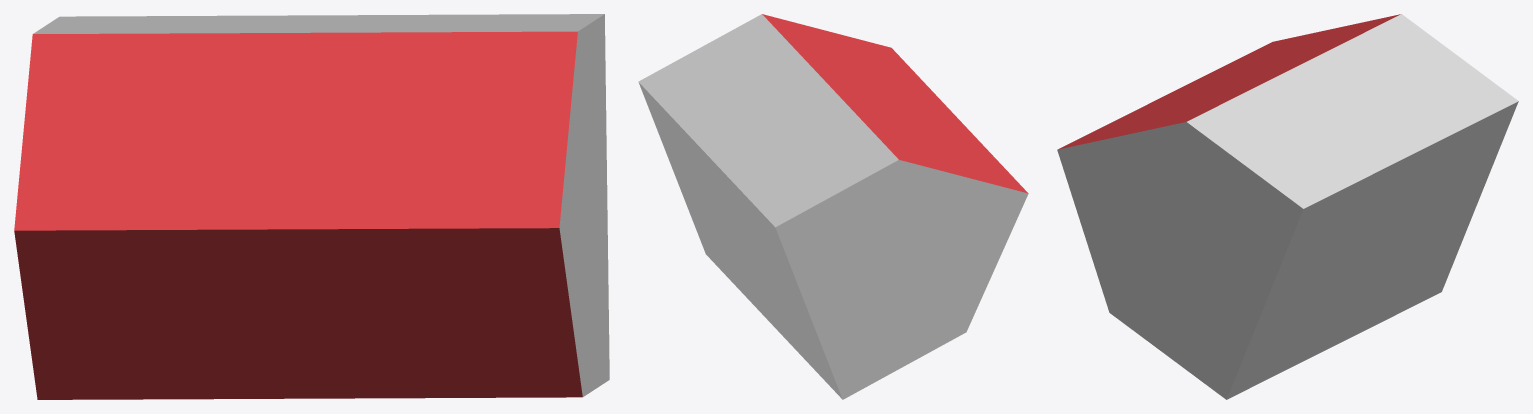
Rendered from house.fbx.
3 views of the same model, side by side, from view 1: azimuth 30°, elevation 25°; view 2: azimuth 150°, elevation 25°; view 3: azimuth 270°, elevation 25° (orthographic). The views are drawn at different scales.
Parts seen in each view (by area): view 1: Plane.088; view 2: Plane.088; view 3: Plane.088.
Boxes of the visible parts, x1=… form: Plane.088: x1=14, y1=14, x2=609, y2=399; Plane.088: x1=638, y1=14, x2=1028, y2=399; Plane.088: x1=1057, y1=14, x2=1518, y2=399.
Size of the model in its own units: 87.91 by 56.34 by 85.52.
